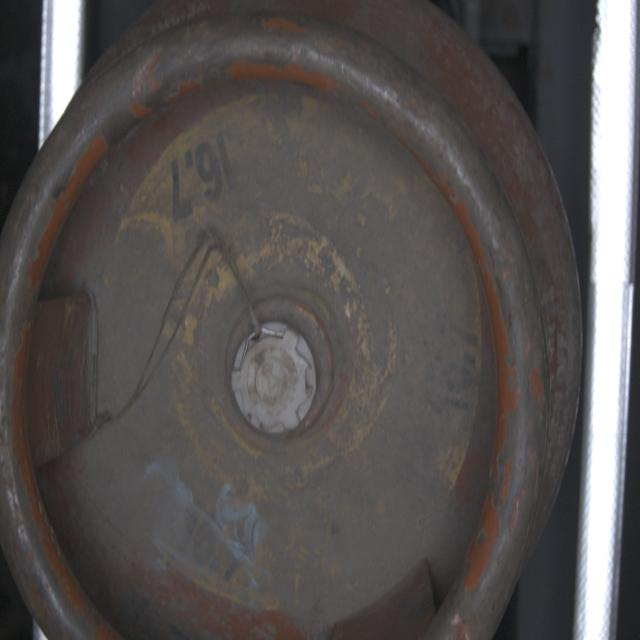Cap: (230, 322, 319, 439)
